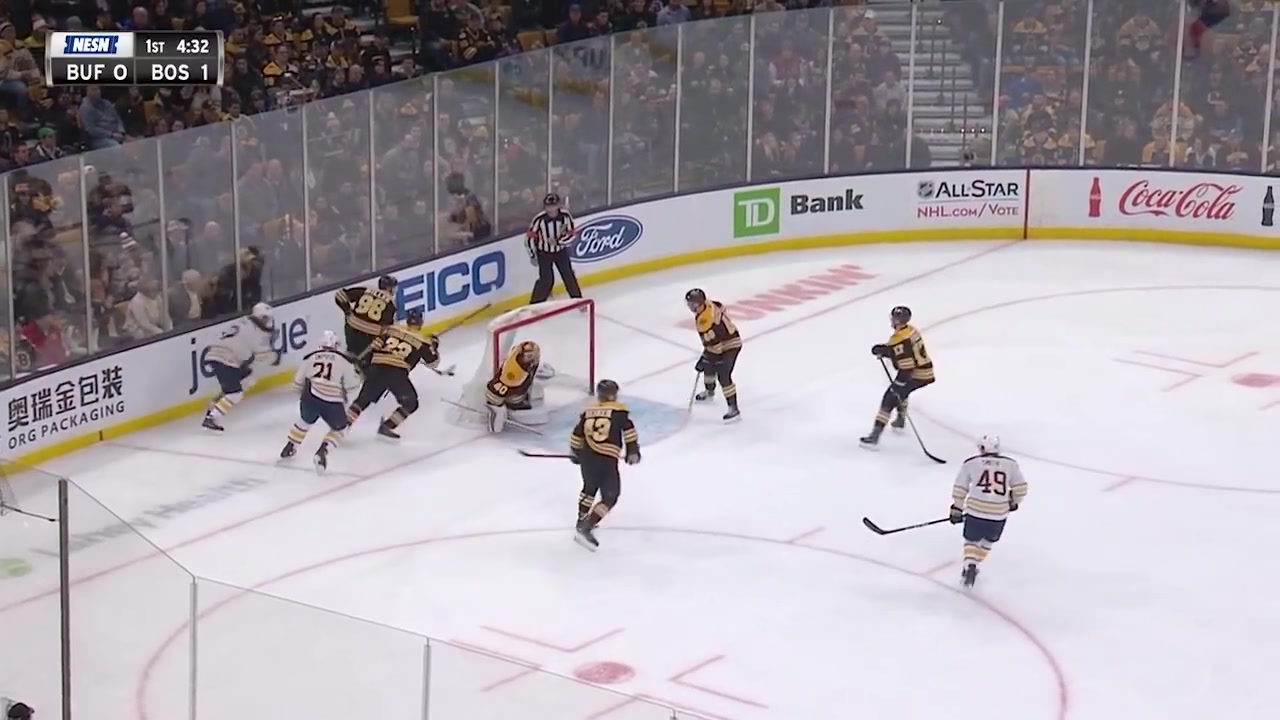geico: (361, 243, 513, 316)
